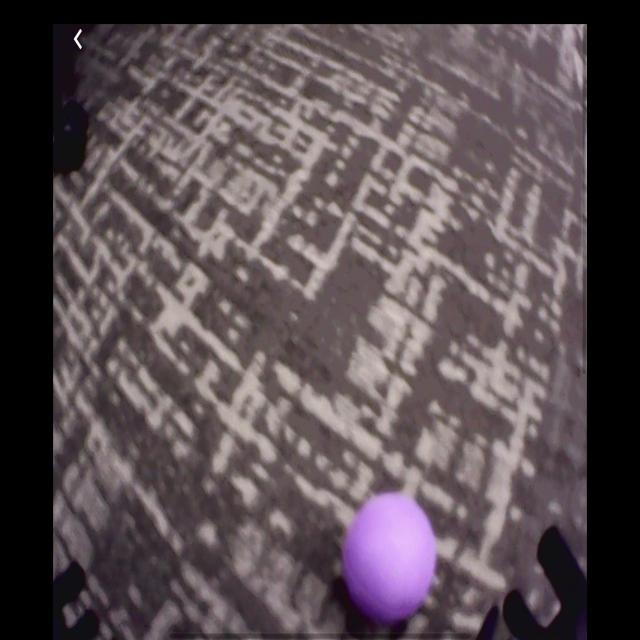ball: (347, 494, 435, 621)
